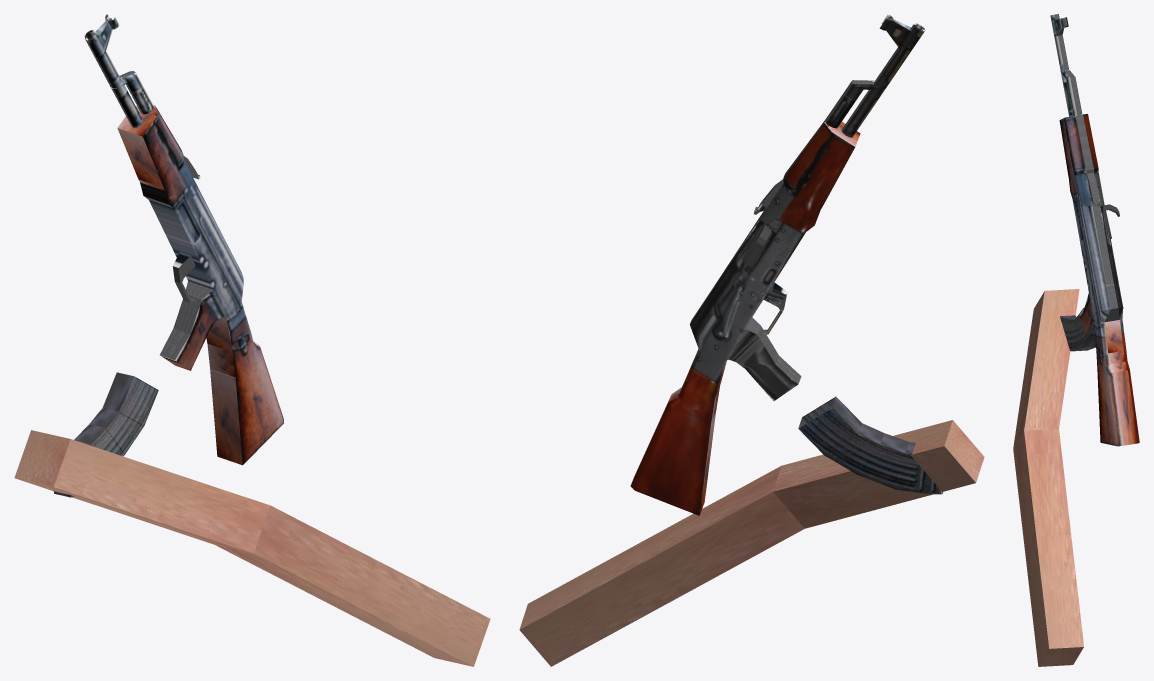
3 views of the same model, side by side, from view 1: azimuth 30°, elevation 25°; view 2: azimuth 150°, elevation 25°; view 3: azimuth 270°, elevation 25° (orthographic). The views are drawn at different scales.
Visible parts, largest first — view 1: Cube.001_Cube.006, Cube.007_Cube.005, Cube.002_Cube.003; view 2: Cube.001_Cube.006, Cube.007_Cube.005, Cube.002_Cube.003; view 3: Cube.001_Cube.006, Cube.007_Cube.005, Cube.002_Cube.003.
Part boxes in pixels (x1,y1,x2,y2): Cube.001_Cube.006: [14, 430, 490, 666]; Cube.007_Cube.005: [84, 14, 283, 465]; Cube.002_Cube.003: [53, 372, 158, 497]; Cube.001_Cube.006: [519, 420, 984, 666]; Cube.007_Cube.005: [630, 14, 925, 515]; Cube.002_Cube.003: [798, 396, 942, 494]; Cube.001_Cube.006: [1013, 289, 1083, 666]; Cube.007_Cube.005: [1050, 14, 1139, 446]; Cube.002_Cube.003: [1060, 308, 1095, 351].
Size of the model in its own units: 8.47 by 12.73 by 2.76.
